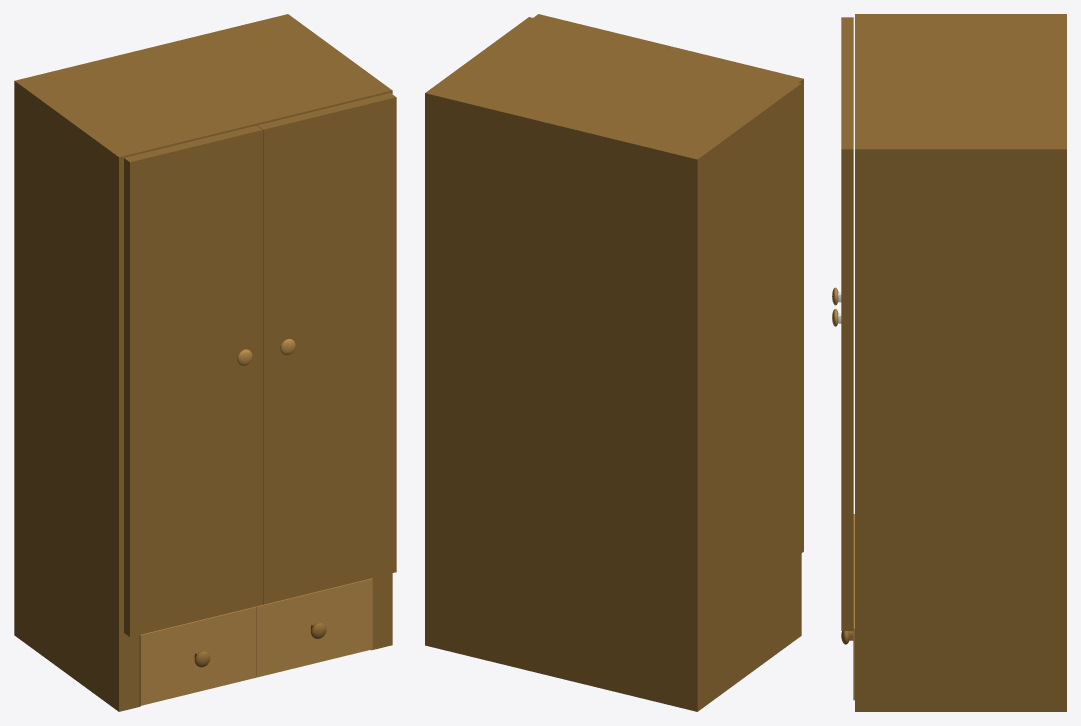
Rendered from Dolap.fbx.
The picture shows the model from 3 angles, left to right: view 1: azimuth 30°, elevation 25°; view 2: azimuth 150°, elevation 25°; view 3: azimuth 270°, elevation 25°; orthographic projection.
Parts seen in each view (by area): view 1: Cube; view 2: Cube; view 3: Cube.
Part boxes in pixels (x1,y1,x2,y2): Cube: (14, 14, 396, 711); Cube: (425, 14, 803, 711); Cube: (832, 14, 1066, 711).
Size of the model in its own units: 302 by 586 by 221.
